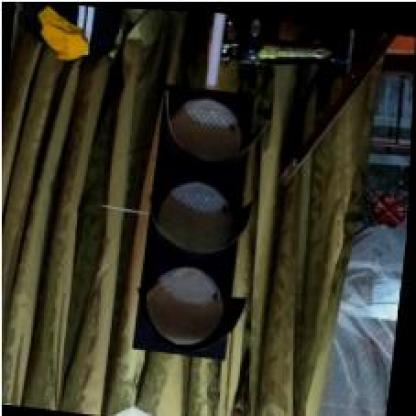yellow: (134, 83, 268, 360)
